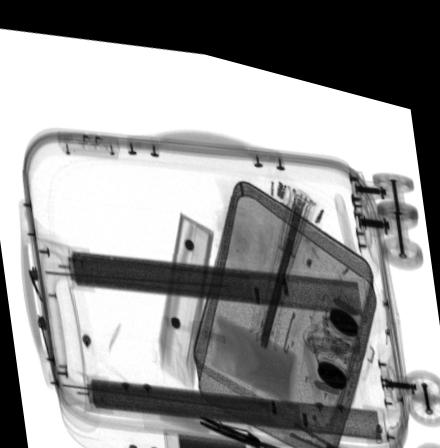Knife: (196, 400, 304, 448)
Powerbank: (160, 419, 269, 448)
Scissors: (243, 365, 386, 448)
